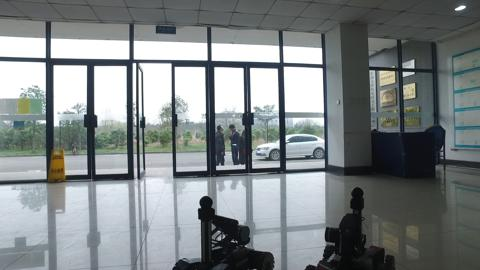chariot: (302, 184, 399, 269), (169, 195, 276, 268)
